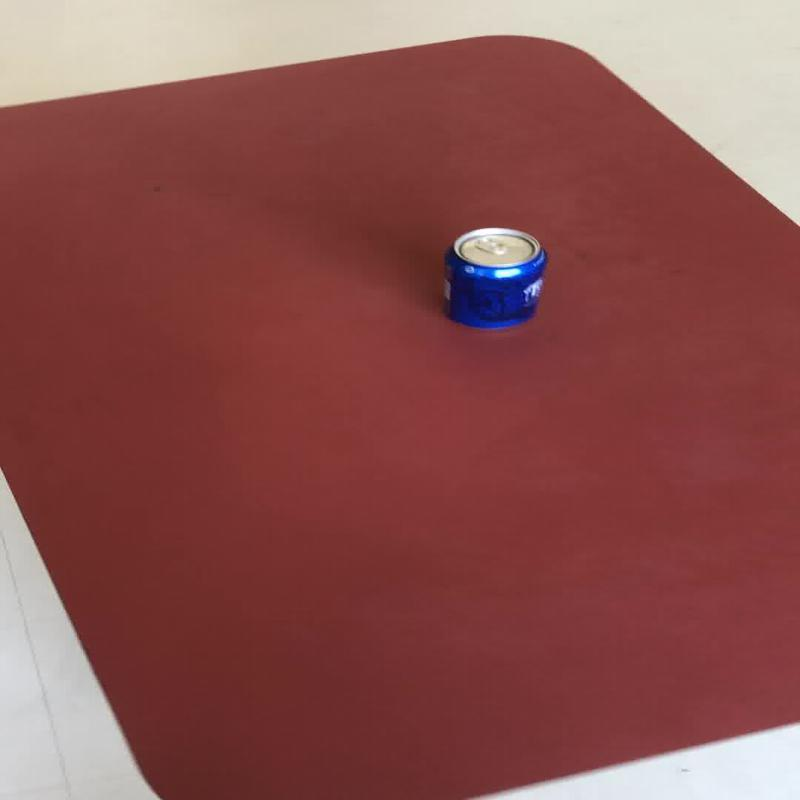tonic: (440, 226, 546, 330)
